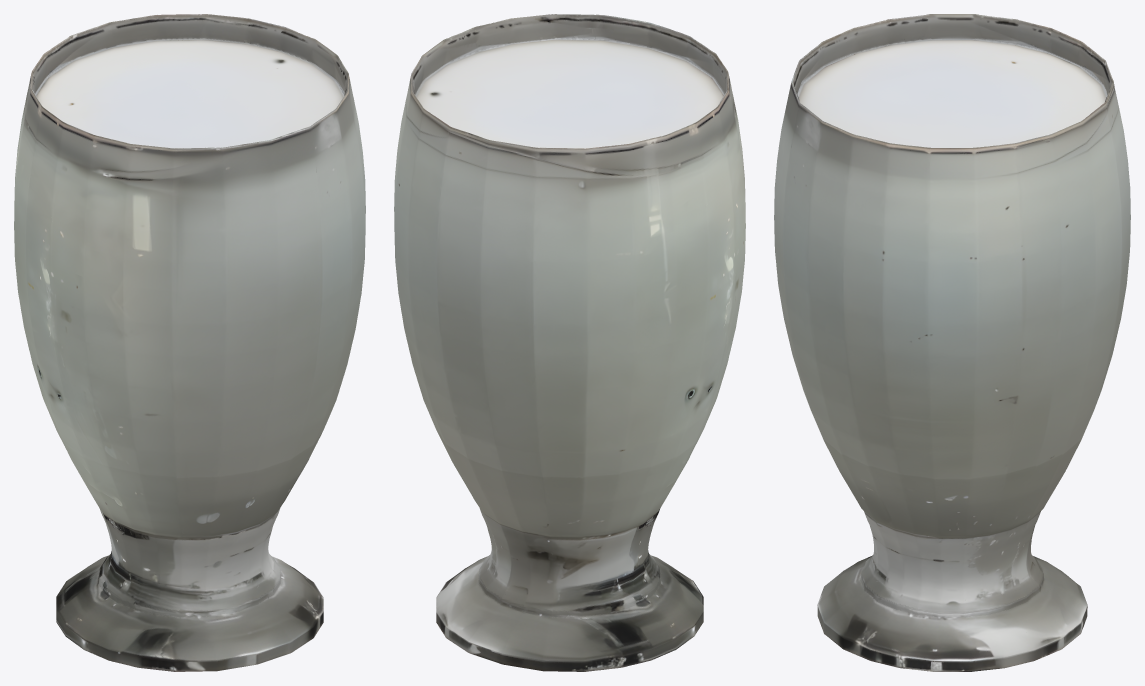
Rendered from natuart.glb.
The picture shows the model from 3 angles, left to right: view 1: azimuth 30°, elevation 25°; view 2: azimuth 150°, elevation 25°; view 3: azimuth 270°, elevation 25°; orthographic projection.
Parts seen in each view (by area): view 1: model; view 2: model; view 3: model.
Part boxes in pixels (x1,y1,x2,y2): model: (14, 14, 365, 671); model: (394, 14, 745, 671); model: (774, 14, 1130, 671).
Bounding box in the file's own units: 1.13 × 1.9 × 1.15.
1 material, 1 textured.
